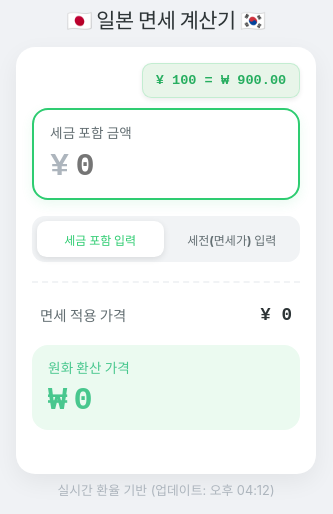
App › toggles between tax-included and pre-tax input
Check: the text "¥ 100 = ₩ 900.00" is shown, box [142, 63, 300, 98]
Click the button "세전(면세가) 입력" at (232, 239), box [168, 221, 295, 257]
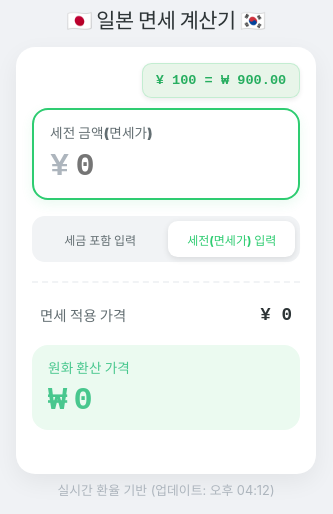
Type "10000" into the field labelled "세전 금액(면세가)" at (179, 167), box [76, 148, 282, 185]
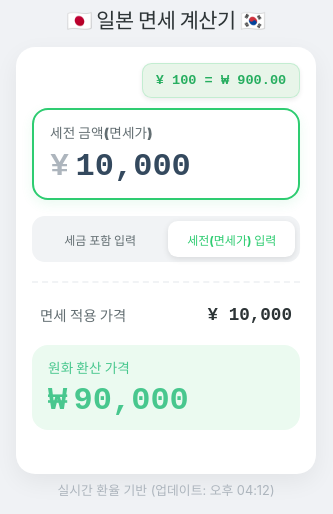
Check: the text "¥ 10,000" is shown, box [208, 302, 292, 329]
Check: the text "90,000" is shown, box [74, 385, 189, 417]
